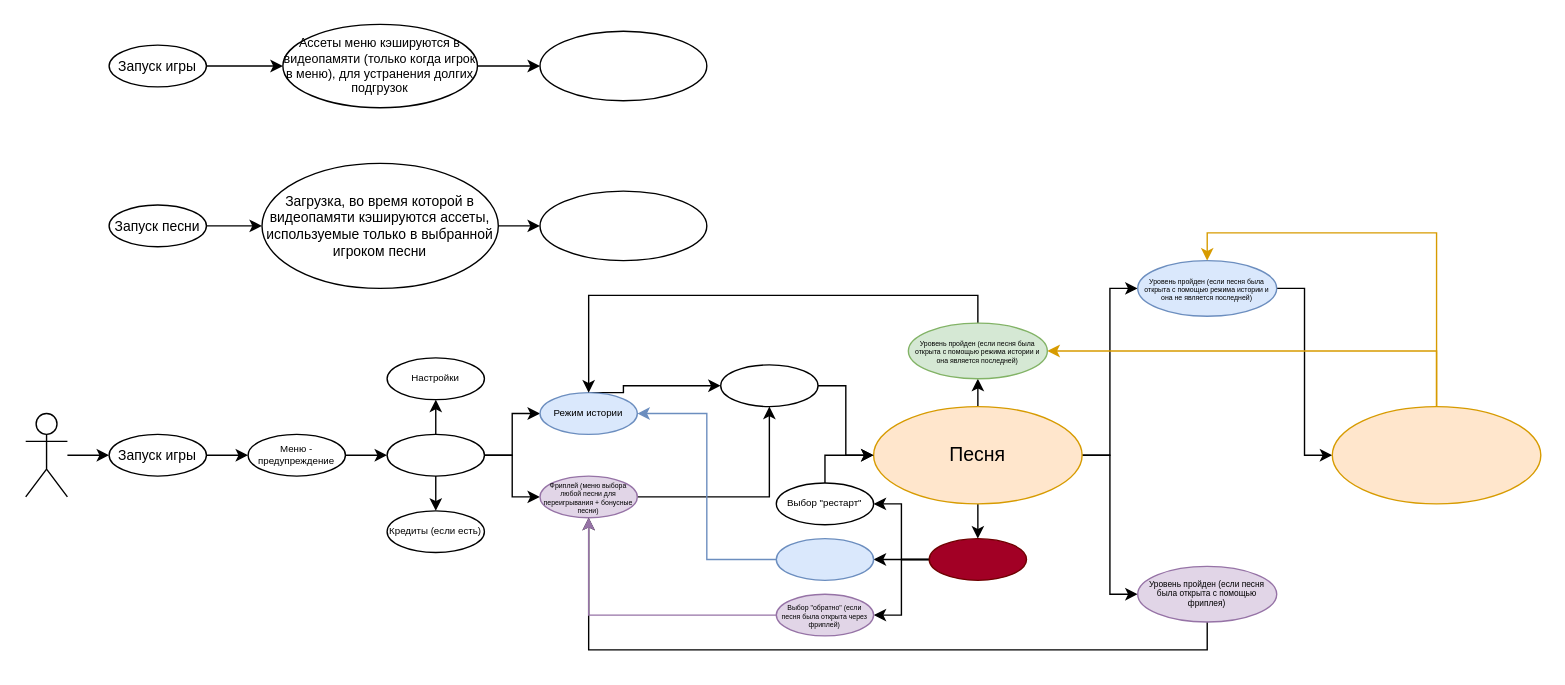
The diagram is 1565 pixels wide and 685 high, and some of its shapes have lost their labels. Each missing label, with the centre of its shape:
Выбор "обратно" (если песня была открыта через режим истории): point (824, 558)
Главное меню: point (435, 454)
Загрузка: point (768, 385)
Игрок: point (45, 454)
Игрок покинул меню = ассеты убираются из видеопамяти: point (623, 65)
Игрок проиграл: point (977, 558)
Песня завершена = ассеты убираются из видеопамяти: point (623, 225)
Следующая песня: point (1436, 454)
